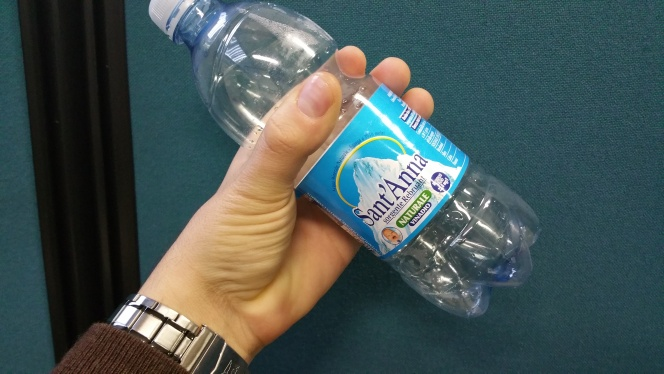bottle: (145, 1, 546, 321)
